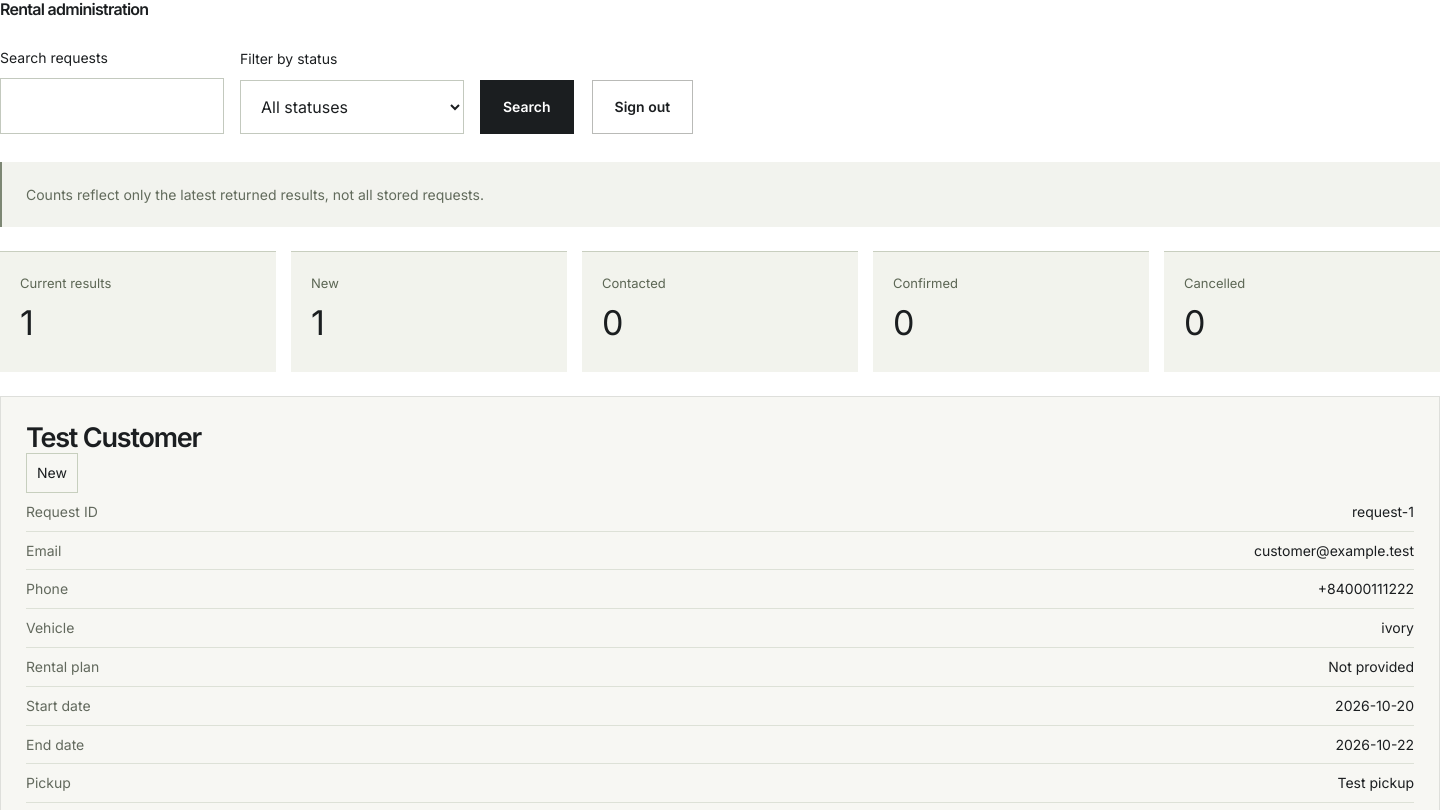
Scenario: clears private data and returns to login after an expired list session
Expected: the text "customer@example.test" is shown, [1254, 539, 1414, 562]
Click the button "Search".
click(527, 106)  # box [480, 80, 574, 134]
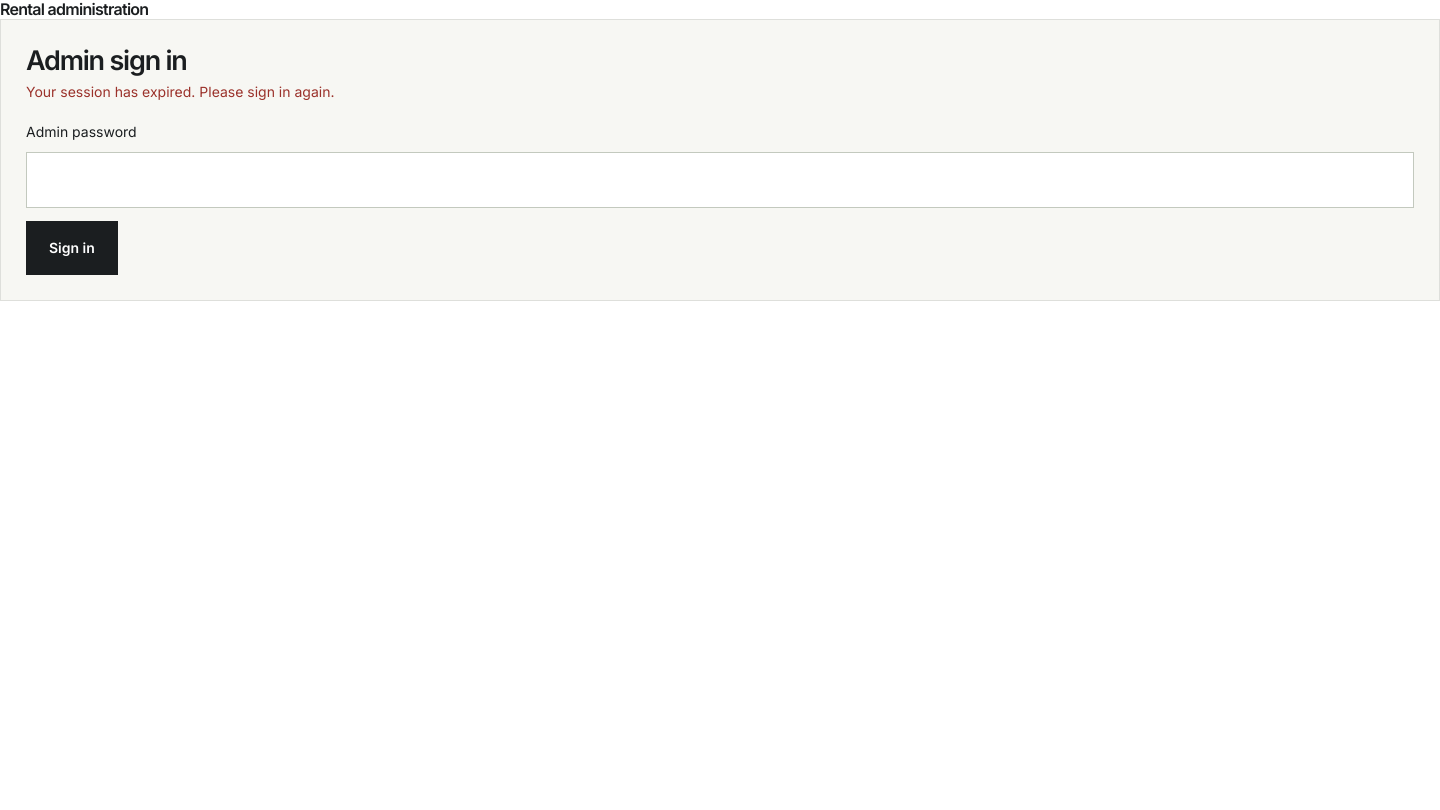
Expected: the password field labelled "Admin password" is shown, [26, 152, 1414, 208]
Result: the message reads "Your session has expired. Please sign in again." at [26, 83, 334, 100]
Result: the text "customer@example.test" is gone
